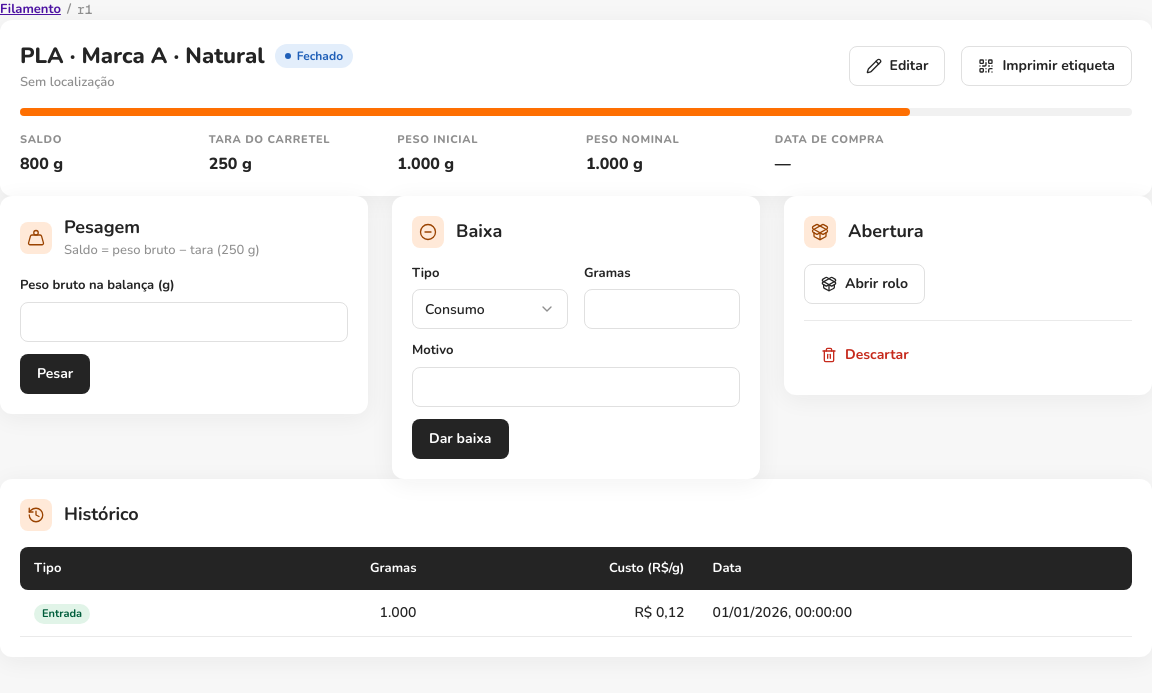
it: Roll detail page › keeps the edit form open with the API error message
This screenshot has width=1152, height=693.
Click the button "Editar".
click(897, 66)  # box [849, 46, 945, 86]
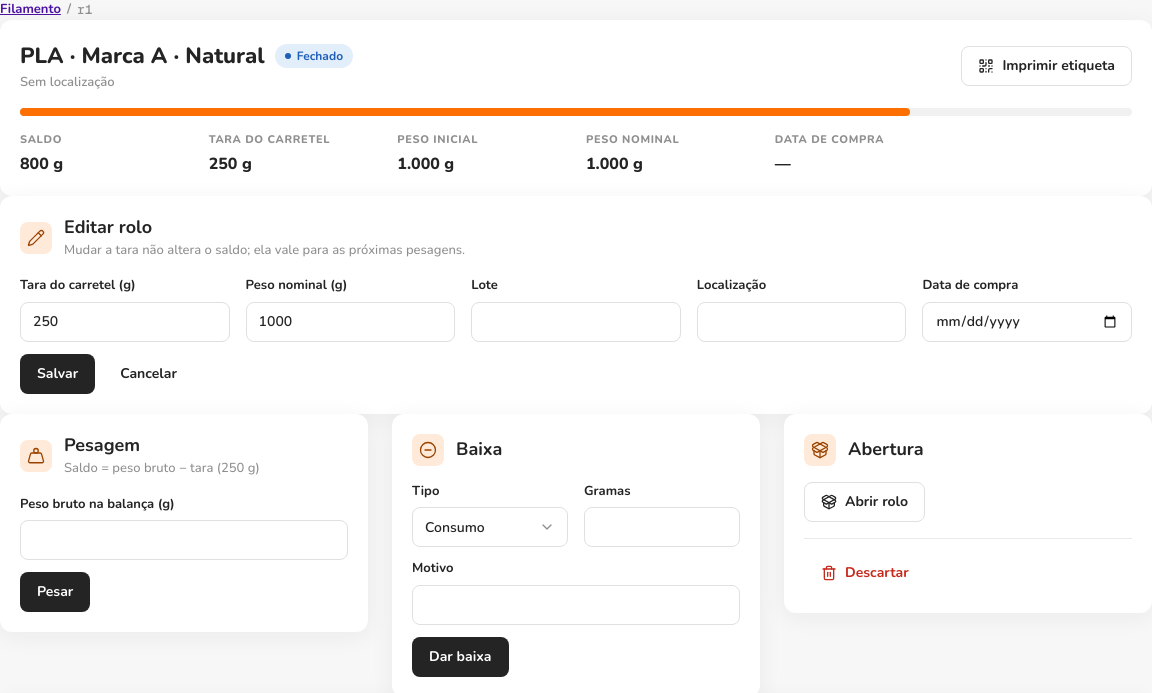
Click the button "Salvar".
click(58, 374)  # box [20, 354, 95, 394]
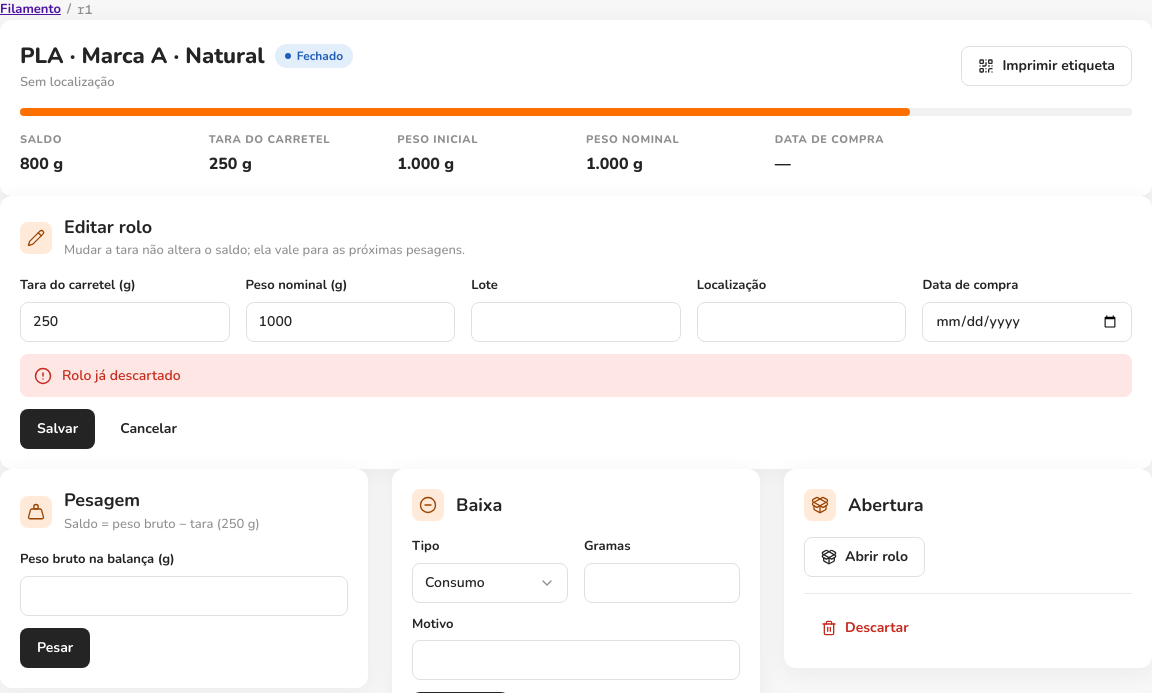
Expected: the button "Salvar" is shown, [20, 410, 95, 450]
Expected: the message reads "Rolo já descartado", [62, 366, 181, 385]
